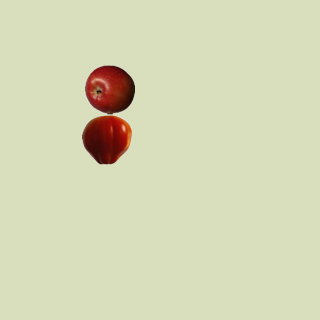Apple Braeburn: (84, 64, 134, 114)
Tomato 1: (81, 114, 131, 164)
